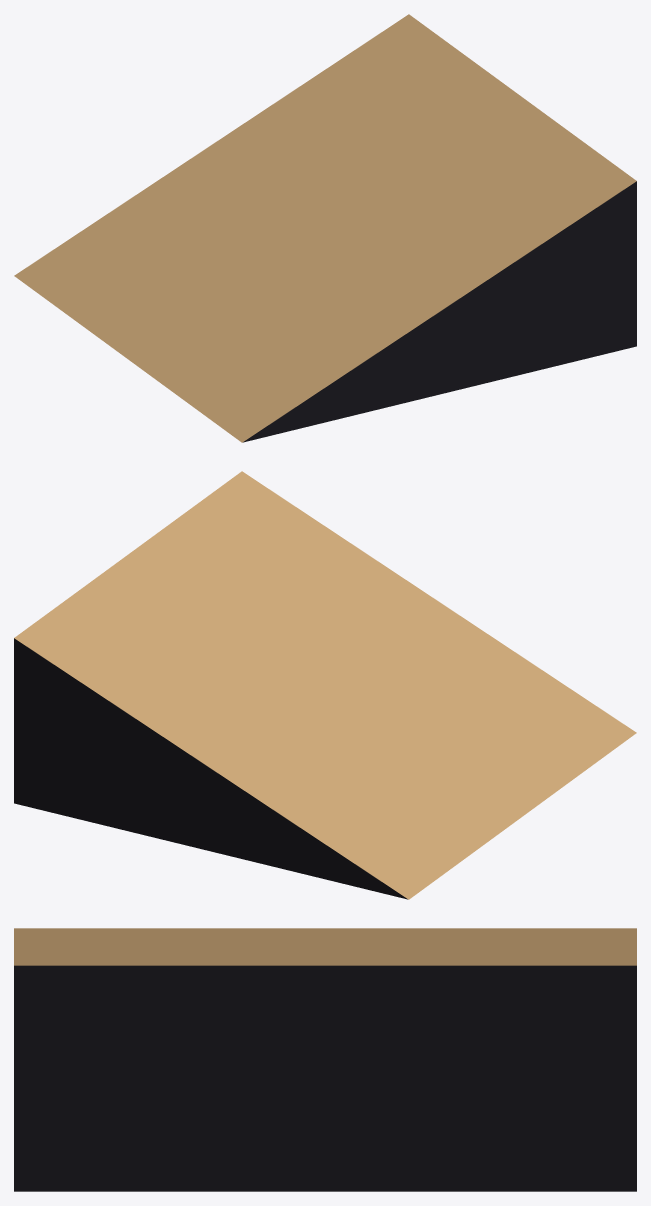
Rendered from Ramp_4.fbx.
The picture shows the model from 3 angles, top to bottom: view 1: azimuth 30°, elevation 25°; view 2: azimuth 150°, elevation 25°; view 3: azimuth 270°, elevation 25°; orthographic projection. The views are drawn at different scales.
Parts seen in each view (by area): view 1: Ramp_4; view 2: Ramp_4; view 3: Ramp_4.
Boxes of the visible parts, x1,y1,x2,y2 form: Ramp_4: (14,14,636,442); Ramp_4: (14,471,636,899); Ramp_4: (14,928,636,1191).
Size of the model in its own units: 10 by 4 by 10.
